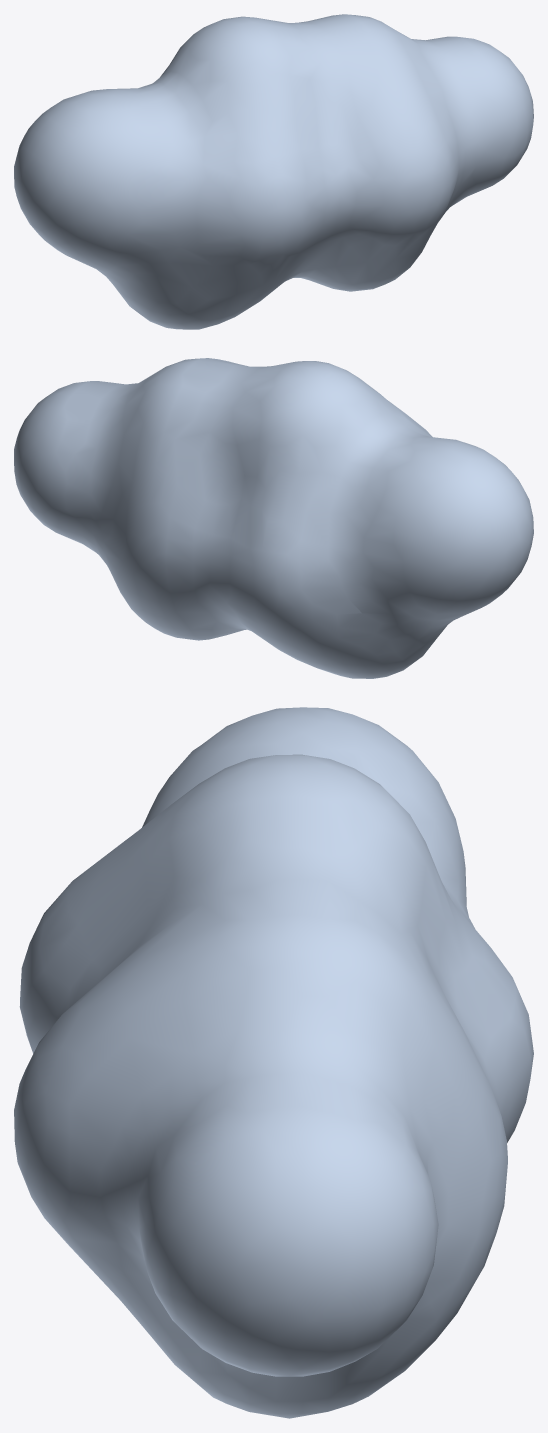
The model's file is cloudy1.fbx.
The picture shows the model from 3 angles, top to bottom: view 1: azimuth 30°, elevation 25°; view 2: azimuth 150°, elevation 25°; view 3: azimuth 270°, elevation 25°; orthographic projection. The views are drawn at different scales.
Parts seen in each view (by area): view 1: Mball.012; view 2: Mball.012; view 3: Mball.012.
Boxes of the visible parts, x1=… form: Mball.012: x1=14, y1=14, x2=533, y2=329; Mball.012: x1=14, y1=358, x2=533, y2=678; Mball.012: x1=14, y1=707, x2=533, y2=1418.
Bounding box in the file's own units: 359 × 199 × 175.
